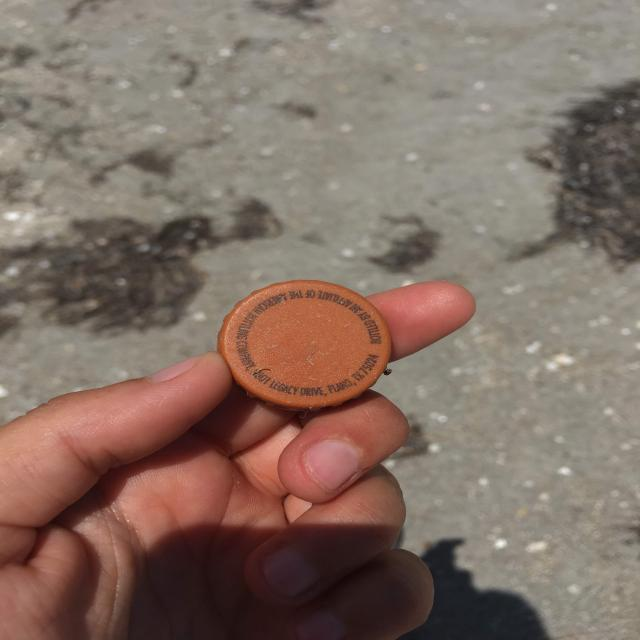litter: (217, 280, 390, 411)
